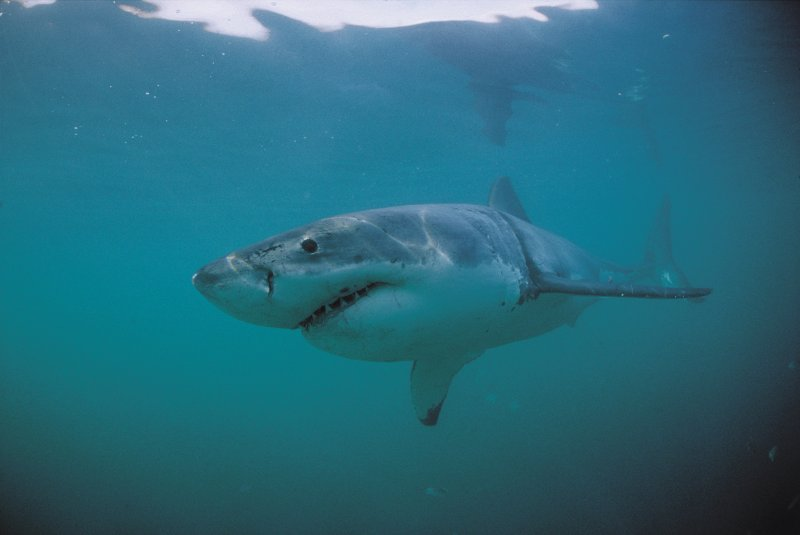Carcharodon_carcharias: (167, 161, 720, 434)
